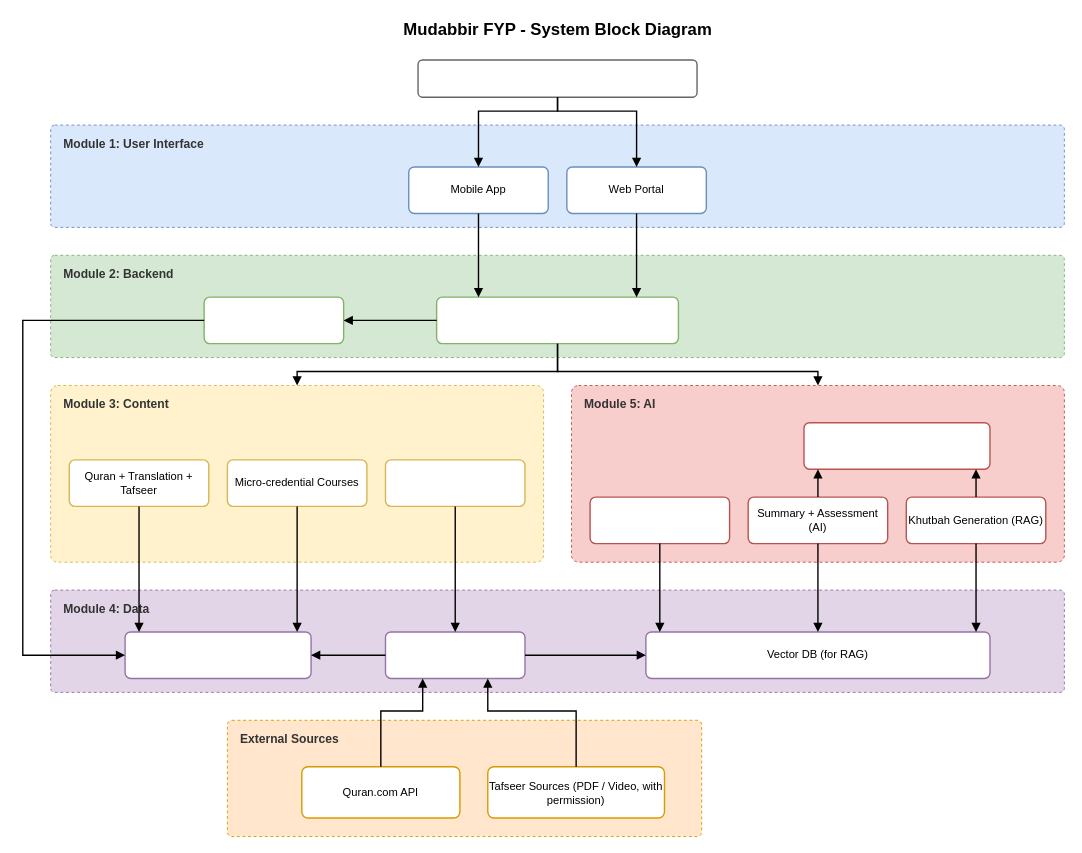
The diagram is 1082 pixels wide and 853 high, and some of its shapes have lost their labels. The centre of each missing label's shape, as x and y in pixels:
"Admin Panel (Scholar)" goes at (x=454, y=483).
"Authentication (Login / Signup)" goes at (x=273, y=320).
"Backend / API Server" goes at (x=557, y=320).
"Content Ingestion Pipeline" goes at (x=454, y=655).
"Database" goes at (x=217, y=655).
"LLM Model" goes at (x=896, y=445).
"Semantic Search" goes at (x=659, y=520).
"Users: Guest / Learner / Scholar" goes at (x=557, y=78).
